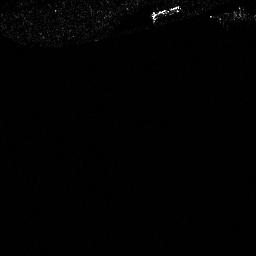ship: (151, 5, 182, 23)
